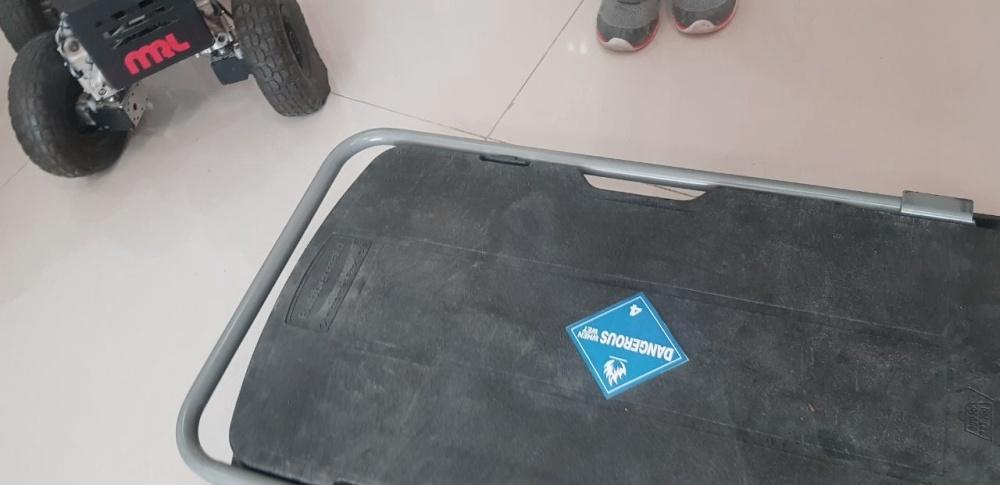dangerous-when-wet: (567, 295, 685, 399)
